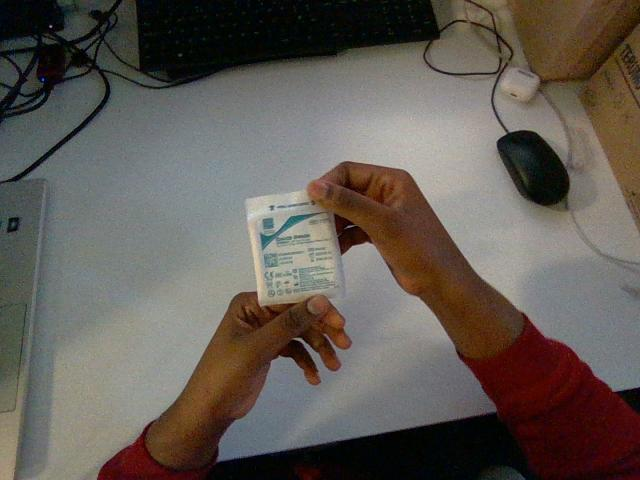gauze: (245, 190, 344, 305)
